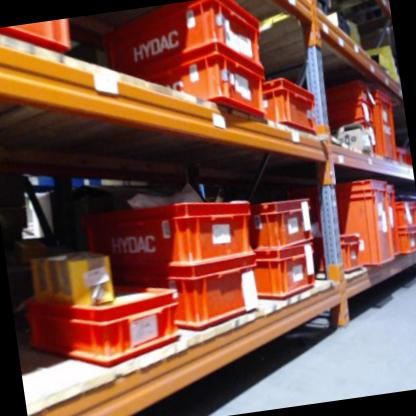small_load_carrier: (80, 0, 268, 88), (24, 279, 186, 378), (80, 193, 256, 282), (113, 42, 266, 135), (151, 257, 270, 328), (337, 178, 397, 275), (258, 73, 321, 147), (253, 247, 323, 307), (312, 225, 371, 287), (250, 197, 313, 254), (371, 88, 401, 164), (322, 80, 373, 111), (384, 181, 404, 257), (327, 103, 376, 130), (397, 200, 416, 233), (398, 228, 416, 261), (402, 153, 410, 168)
